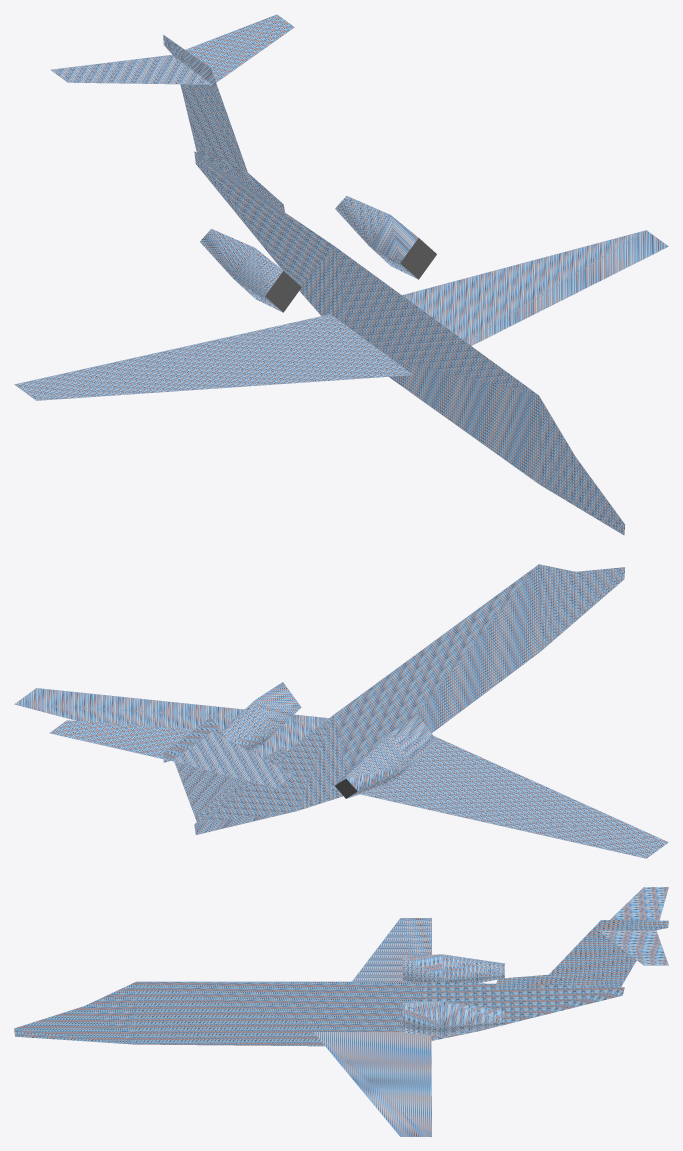
Rendered from JBAI Learjet 45 MSFS_LOD1.gltf.
The picture shows the model from 3 angles, top to bottom: view 1: azimuth 30°, elevation 25°; view 2: azimuth 150°, elevation 25°; view 3: azimuth 270°, elevation 25°; orthographic projection. The views are drawn at different scales.
Parts seen in each view (by area): view 1: node2, node1; view 2: node2; view 3: node2.
Boxes of the visible parts, left/top/right/bottom form: node2: left=14, top=14, right=668, bottom=535; node1: left=265, top=238, right=436, bottom=312; node2: left=14, top=564, right=668, bottom=858; node2: left=14, top=887, right=668, bottom=1136.
Bounding box in the file's own units: 17.01 × 4.61 × 21.52.
